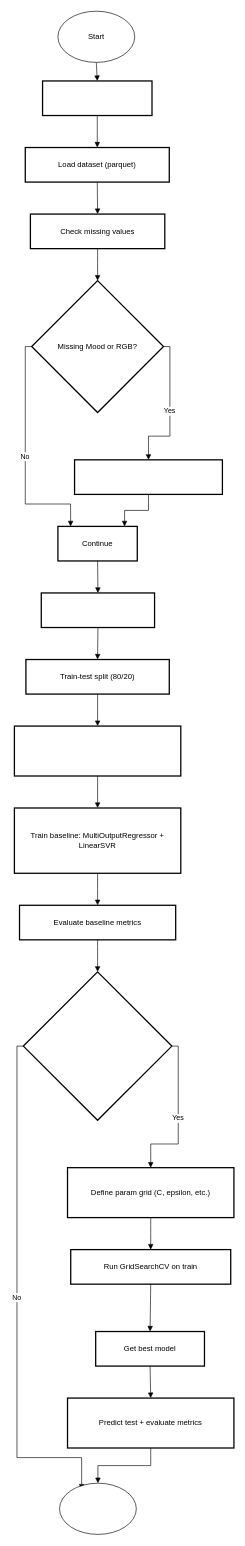
Image size: 245x1546. Some labels were removed from this diagram. The box of each missing label's shape, as (x1, y1, x2, y2) in pixels:
Clean Mood text: (40, 592, 155, 628)
Drop or fix missing rows: (74, 459, 223, 495)
End: (59, 1483, 136, 1534)
Import libraries: (42, 80, 152, 116)
TF-IDF vectorizer: fit train, transform test: (13, 725, 181, 776)
Tune with GridSearchCV?: (22, 971, 172, 1121)
